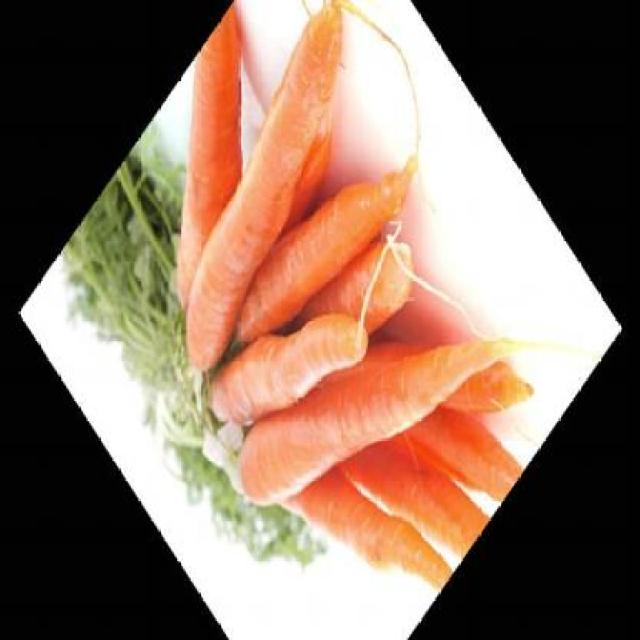carrot: (225, 186, 518, 620), (131, 0, 403, 382), (103, 0, 319, 315), (223, 89, 425, 388), (199, 239, 370, 495), (276, 403, 455, 639), (370, 238, 536, 487), (332, 361, 496, 608), (270, 189, 422, 416), (390, 343, 528, 548), (258, 109, 351, 242)
